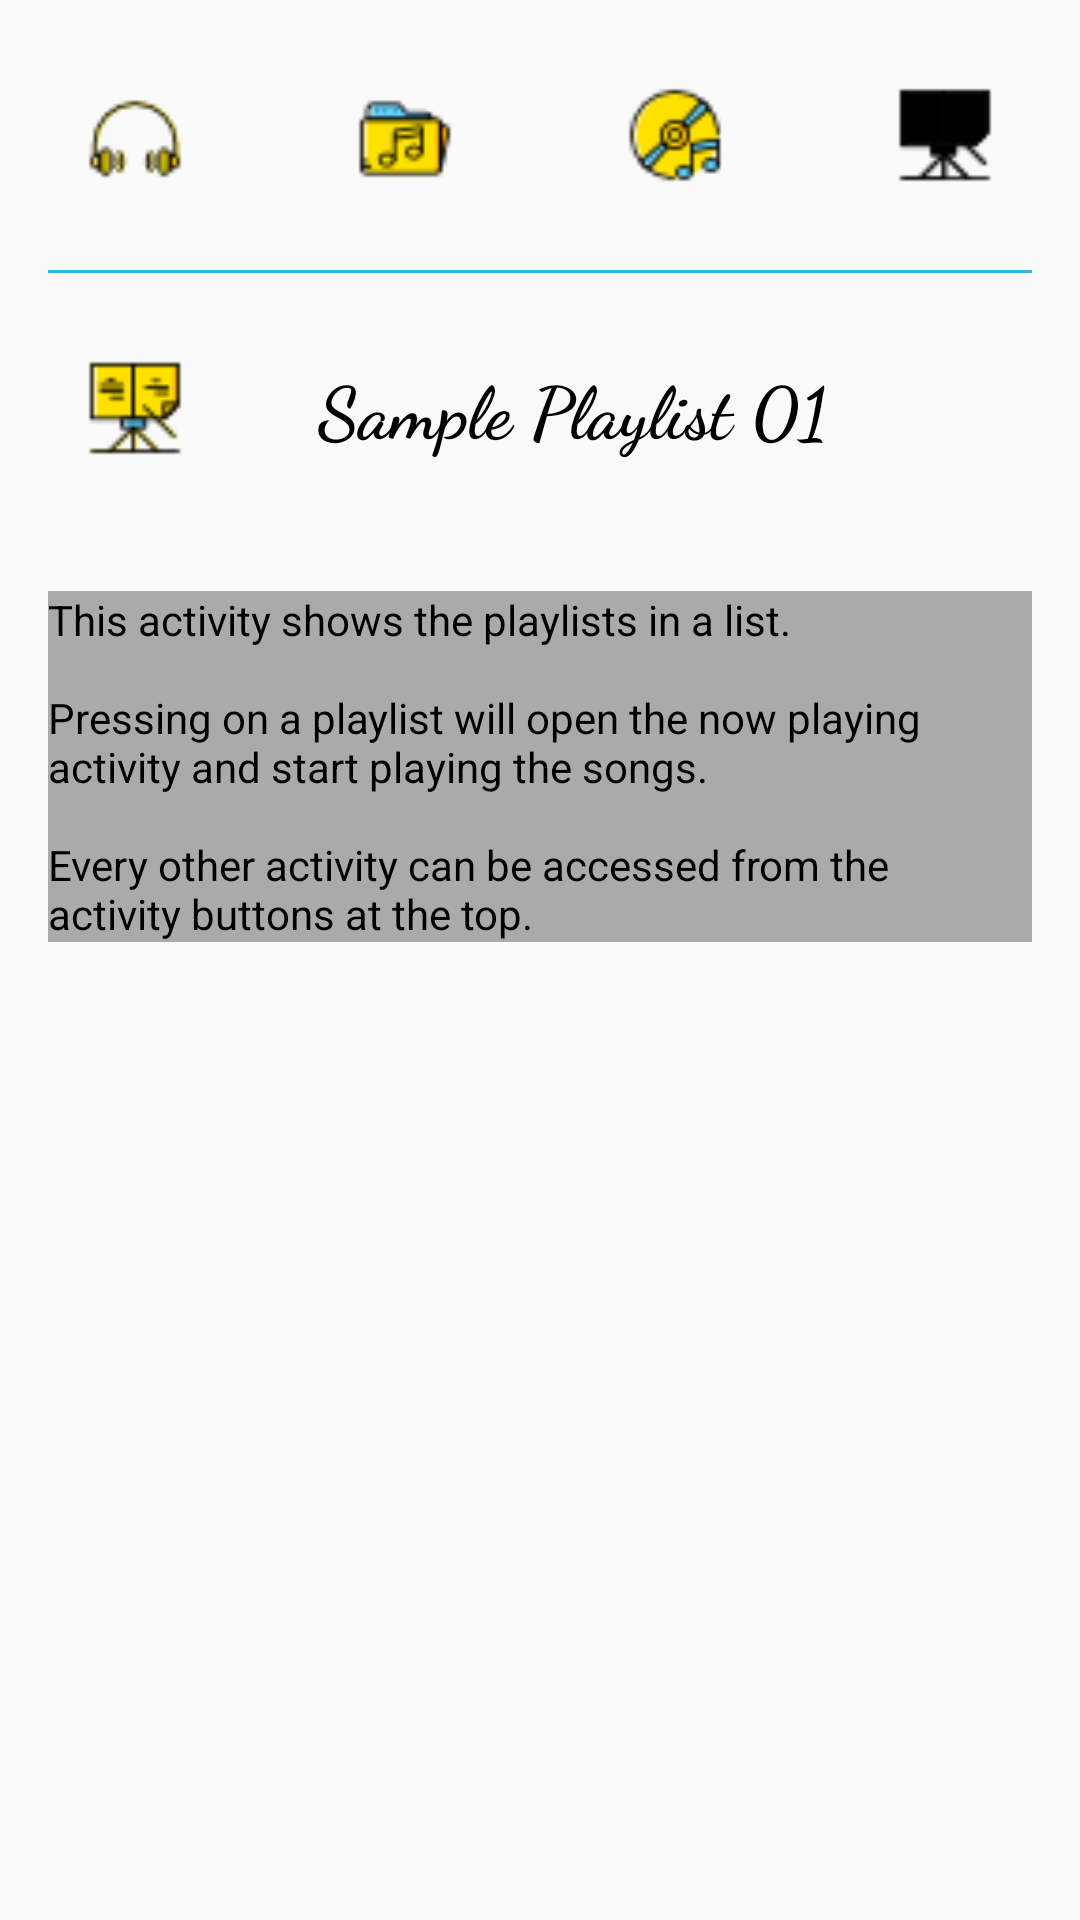

Where icons sit on this 1080 x 1920 app screen, as bbox=[x1, y1, x2, y2]:
nowplaying: bbox=[89, 100, 181, 178]
